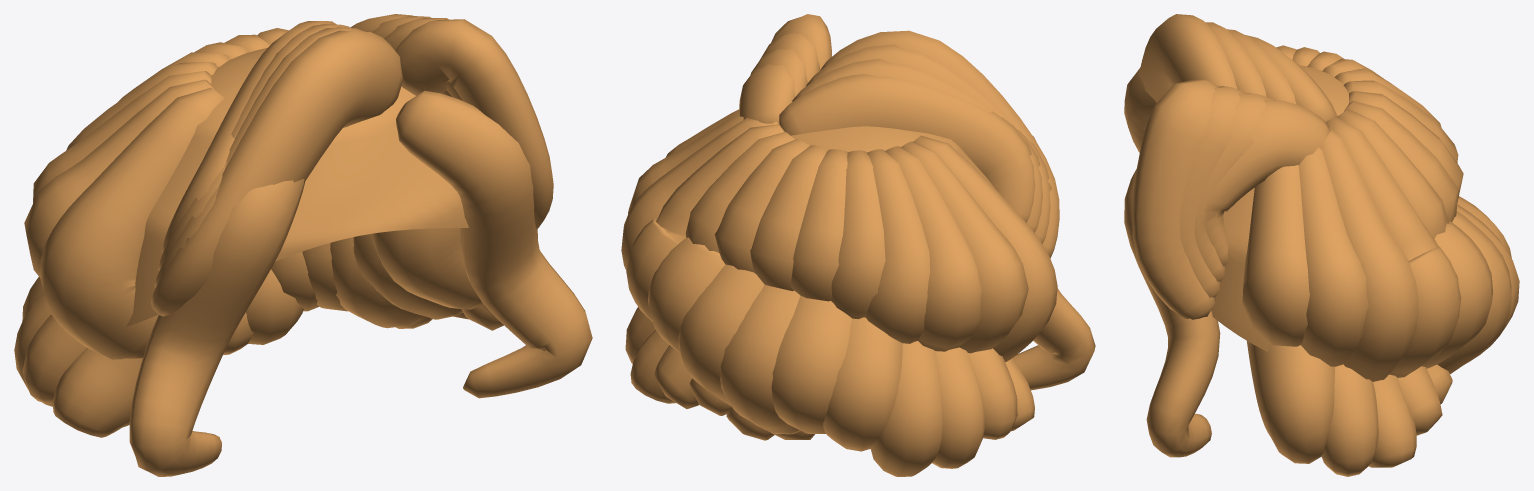
Rendered from studio_wavy_bob_short.glb.
3 views of the same model, side by side, from view 1: azimuth 30°, elevation 25°; view 2: azimuth 150°, elevation 25°; view 3: azimuth 270°, elevation 25° (orthographic). The views are drawn at different scales.
Parts seen in each view (by area): view 1: wavy_bob; view 2: wavy_bob; view 3: wavy_bob.
Part boxes in pixels (left/top/right/bottom): wavy_bob: left=14, top=14, right=592, bottom=476; wavy_bob: left=621, top=14, right=1095, bottom=476; wavy_bob: left=1124, top=14, right=1519, bottom=476.
Size of the model in its own units: 0.6244 by 0.5087 by 0.4874.
